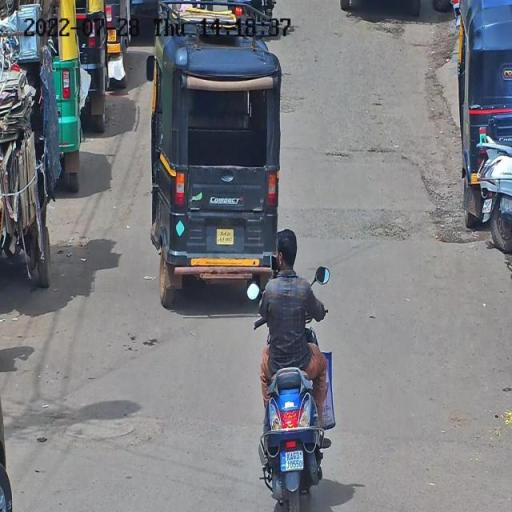numberplate: (278, 450, 305, 471)
using mobile: (266, 252, 282, 272)
